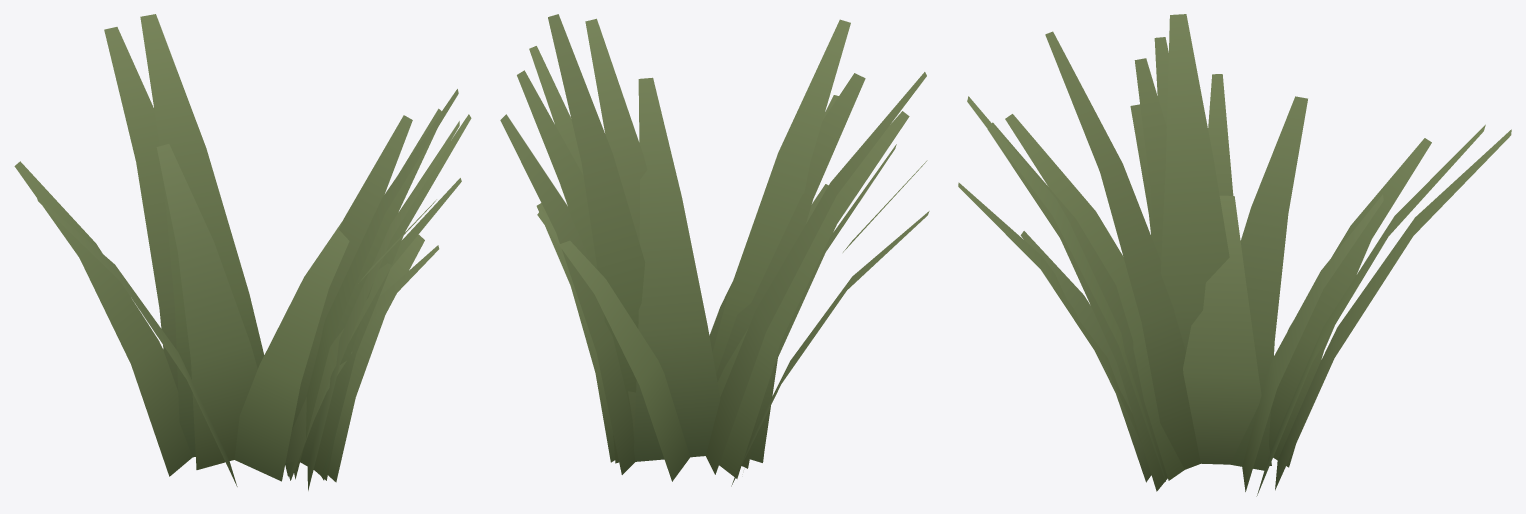
Rendered from gras_halme.glb.
The picture shows the model from 3 angles, left to right: view 1: azimuth 30°, elevation 25°; view 2: azimuth 150°, elevation 25°; view 3: azimuth 270°, elevation 25°; orthographic projection. The views are drawn at different scales.
Parts seen in each view (by area): view 1: gras_halme; view 2: gras_halme; view 3: gras_halme.
Part boxes in pixels (x1,y1,x2,y2): gras_halme: [14, 14, 471, 490]; gras_halme: [500, 14, 929, 486]; gras_halme: [958, 14, 1511, 496].
Size of the model in its own units: 0.3812 by 0.34 by 0.4568.
